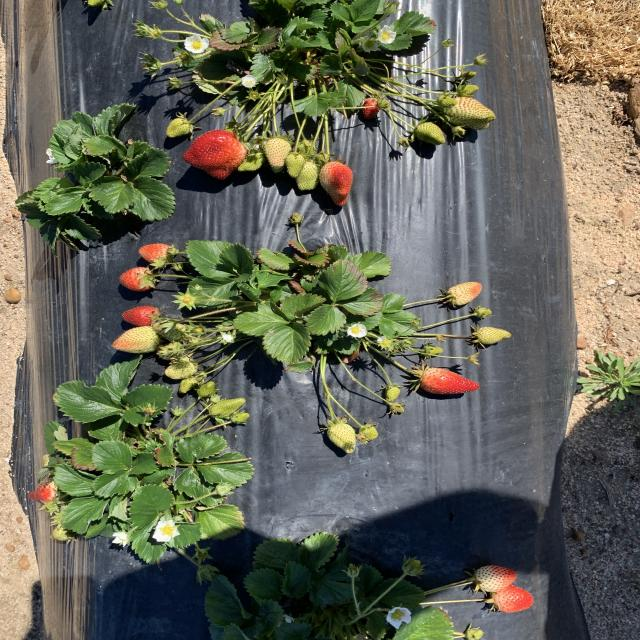unripe: (185, 128, 251, 178), (422, 369, 482, 399), (319, 160, 354, 207), (490, 584, 534, 613), (122, 305, 161, 329), (118, 267, 158, 289), (27, 480, 62, 502), (139, 243, 173, 263), (361, 98, 386, 120)
